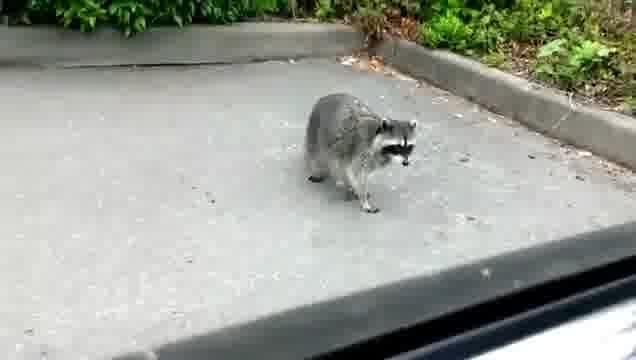raccoon: (306, 93, 418, 217)
